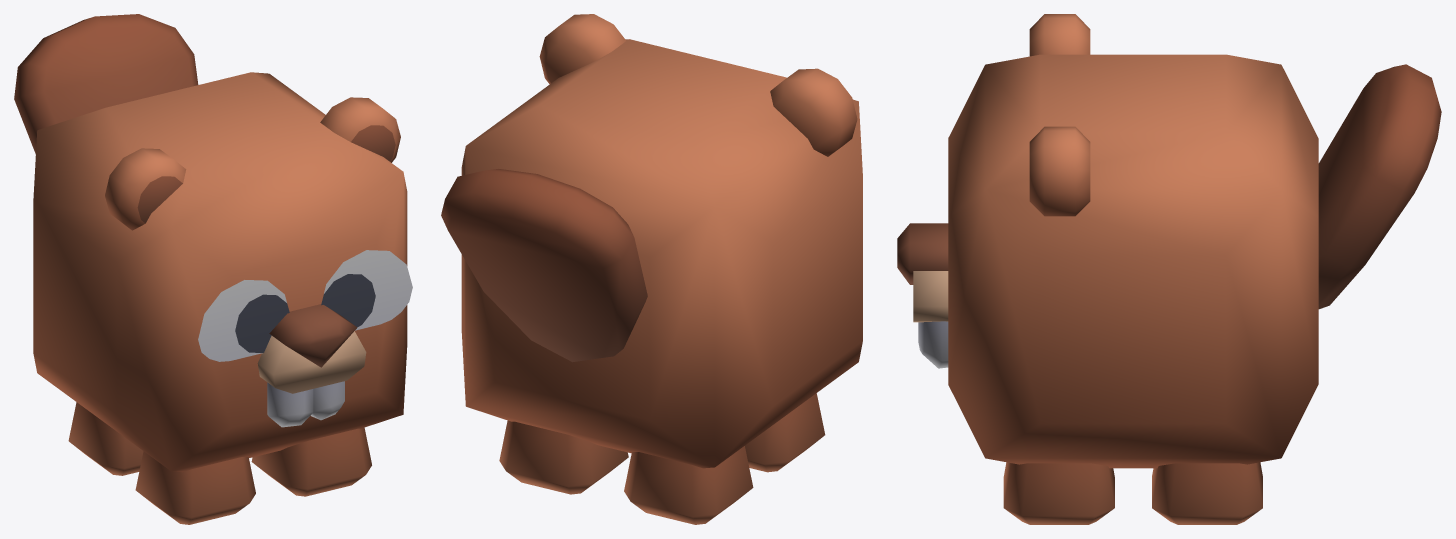
File: beaver.glb
3 views of the same model, side by side, from view 1: azimuth 30°, elevation 25°; view 2: azimuth 150°, elevation 25°; view 3: azimuth 270°, elevation 25° (orthographic). The views are drawn at different scales.
Visible parts, largest first — view 1: body, tail, leg-front-right, leg-front-left, leg-back-right; view 2: body, tail, leg-back-right, leg-back-left, leg-front-right; view 3: body, tail, leg-front-left, leg-back-left.
Part boxes in pixels (x1,y1,x2,y2): body: (33,72,412,472); tail: (14,14,198,154); leg-front-right: (135,451,255,524); leg-front-left: (251,427,371,496); leg-back-right: (68,402,143,475); body: (461,14,862,468); tail: (441,169,647,362); leg-back-right: (624,446,753,524); leg-back-left: (499,420,628,494); leg-front-right: (745,393,825,472); body: (897,14,1318,468); tail: (1318,64,1441,309); leg-front-left: (1003,462,1114,524); leg-back-left: (1152,462,1262,524).
Size of the model in its own units: 1.25 by 1.5 by 1.84.
